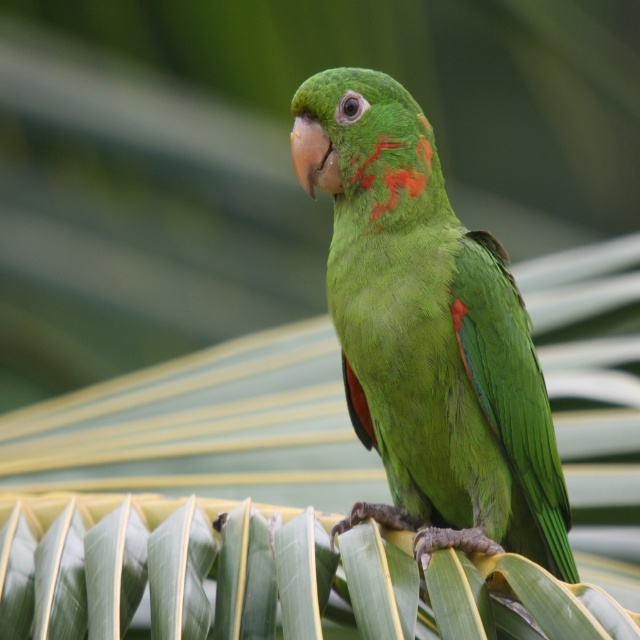Parrot: (290, 67, 580, 585)
